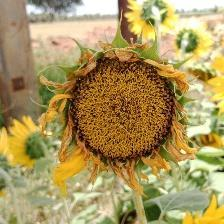sunflower: (64, 50, 188, 172), (10, 114, 53, 171), (124, 1, 179, 42), (173, 21, 214, 60), (187, 62, 223, 87)
